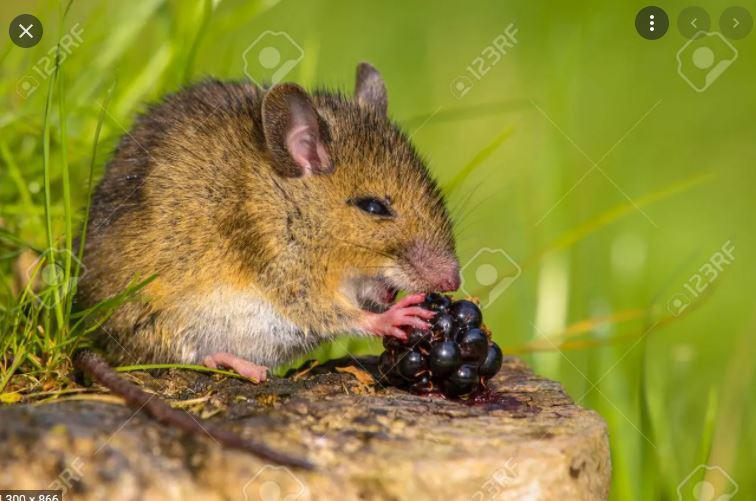rat: (73, 62, 460, 384)
